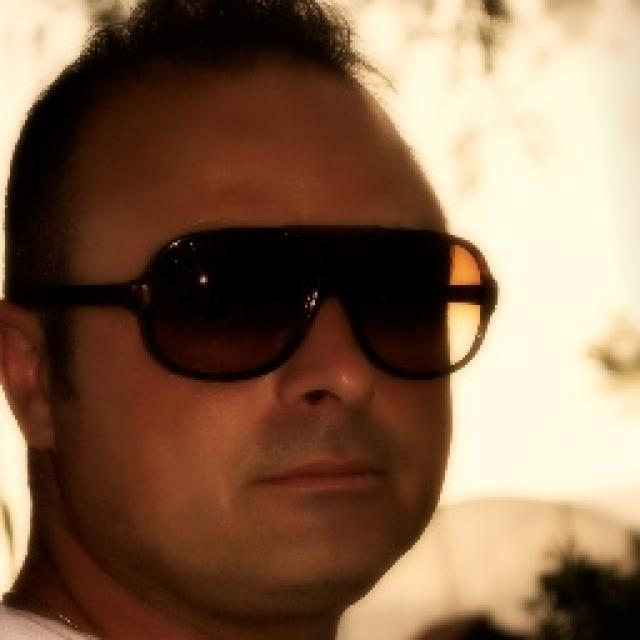glasses: (110, 214, 506, 394)
